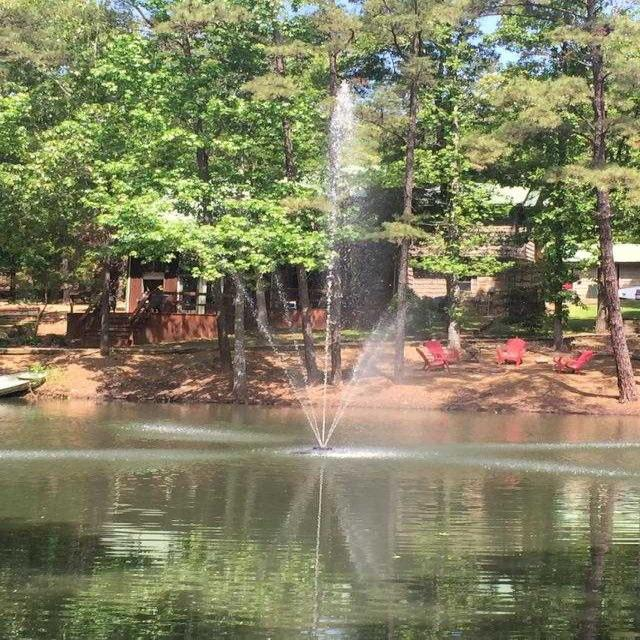Ponds: (1, 395, 636, 636)
